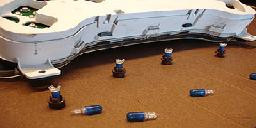LED: (127, 110, 163, 127), (68, 104, 105, 120), (186, 88, 220, 100)
